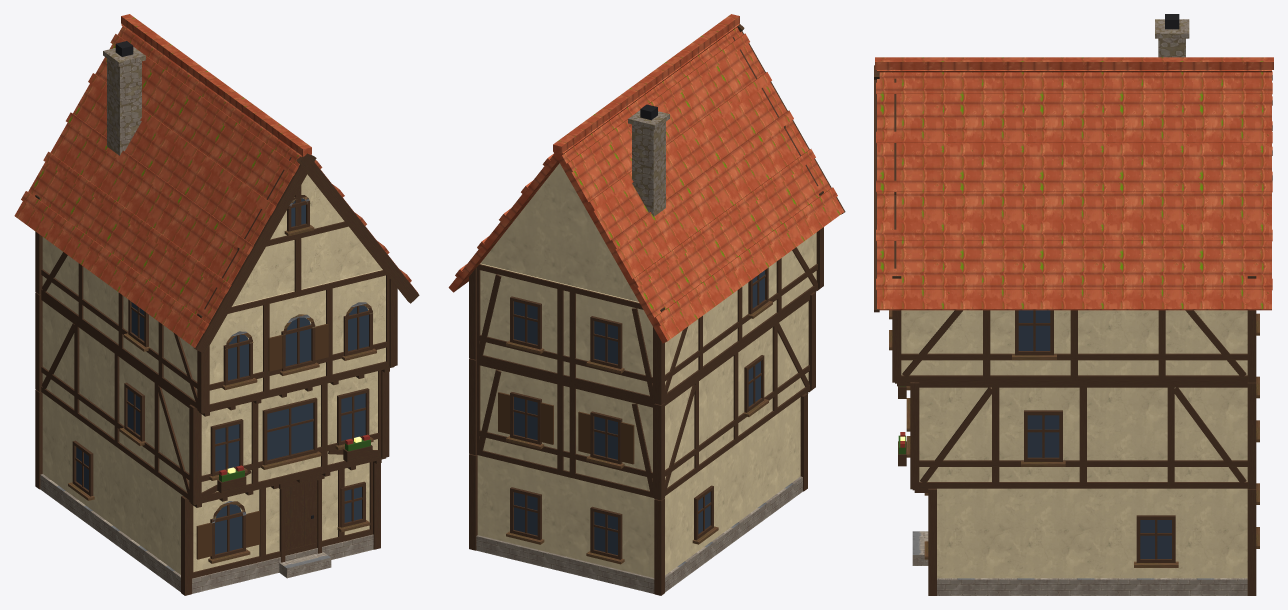
The model's file is tall_house.glb.
3 renders of one model, left to right at view 1: azimuth 30°, elevation 25°; view 2: azimuth 150°, elevation 25°; view 3: azimuth 270°, elevation 25°, orthographic. The views are drawn at different scales.
Visible parts, largest first — view 1: tall_house; view 2: tall_house; view 3: tall_house.
Boxes of the visible parts, x1,y1,x2,y2 form: tall_house: (14, 14, 419, 595); tall_house: (448, 14, 845, 595); tall_house: (874, 14, 1273, 595).
Size of the model in its own units: 7.1 by 13.87 by 10.02.
Materials: 11 (5 with a texture image).
